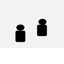human: (12, 22, 27, 42), (35, 17, 48, 37)
